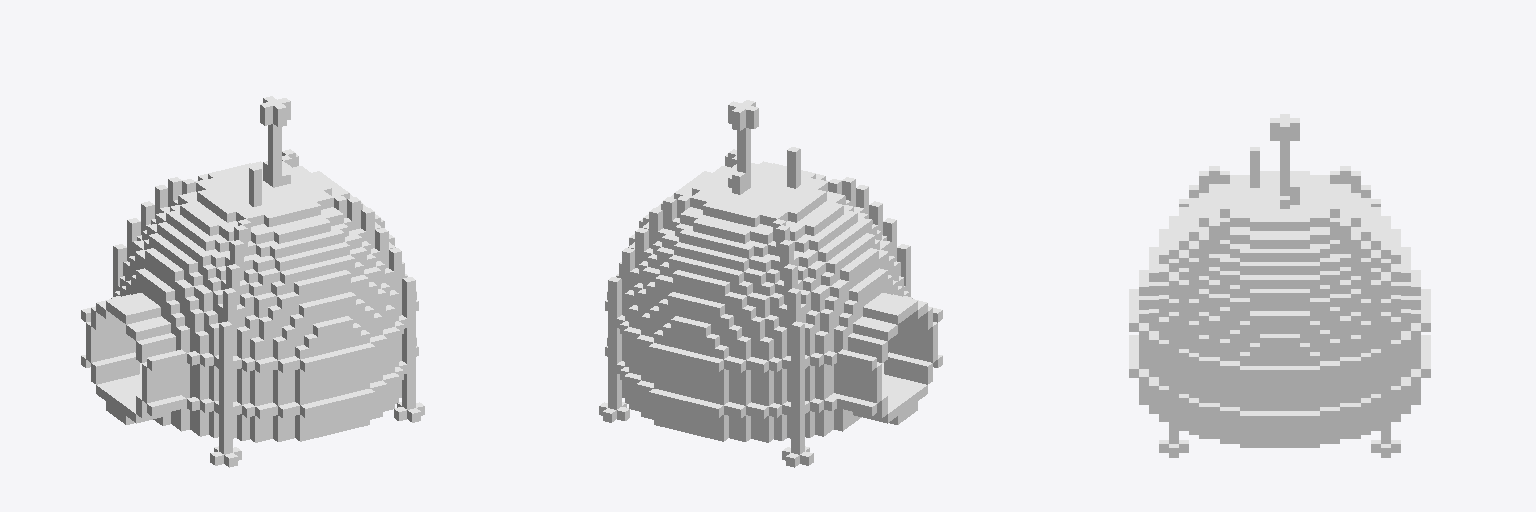
File: tunnelKit_Dome_01_v1.obj
3 renders of one model, left to right at view 1: azimuth 30°, elevation 25°; view 2: azimuth 150°, elevation 25°; view 3: azimuth 270°, elevation 25°, orthographic.
Parts seen in each view (by area): view 1: object 1; view 2: object 1; view 3: object 1.
Boxes of the visible parts, x1=… form: object 1: x1=81, y1=96, x2=424, y2=467; object 1: x1=599, y1=100, x2=942, y2=467; object 1: x1=1129, y1=114, x2=1430, y2=457.
Size of the model in its own units: 3.2 by 3.2 by 3.